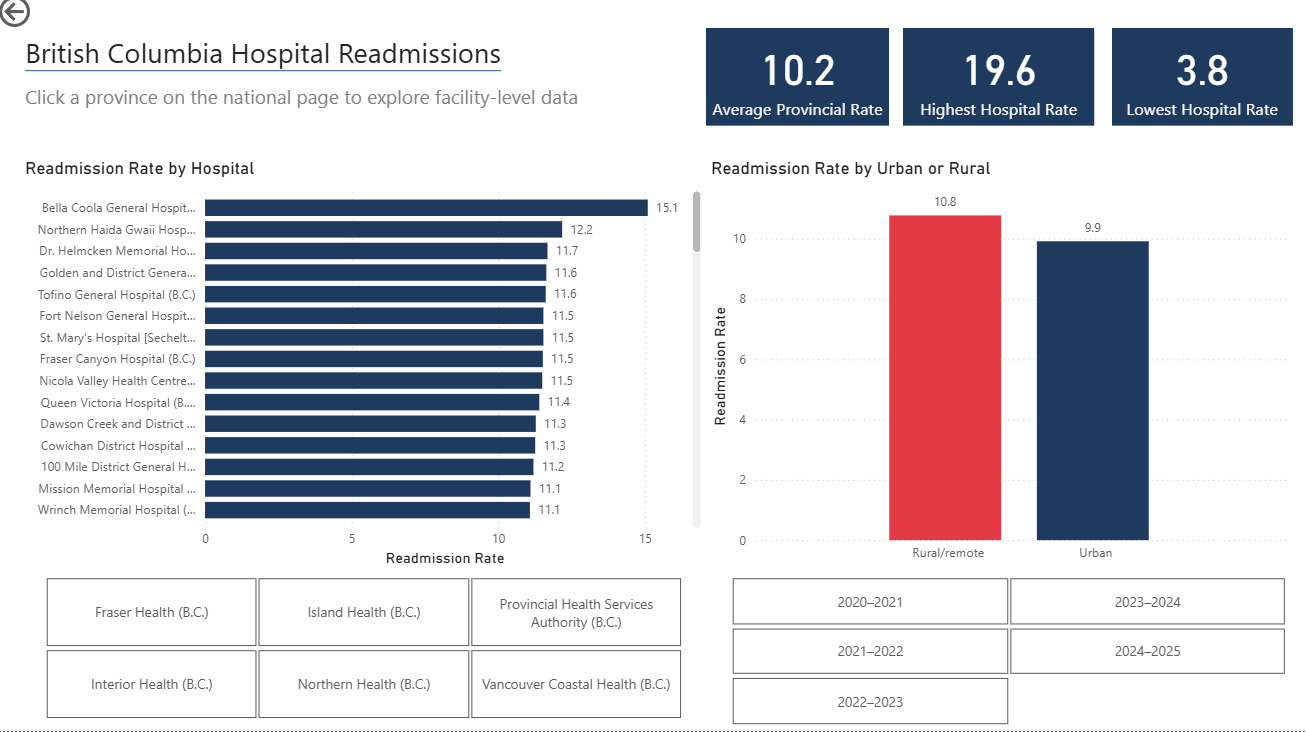

The dashboard page shown, as its layout file describes it:
{"tool":"powerbi","page":{"name":"Provincial Overview","canvas":[1280,720],"ordinal":1},"visuals":[{"type":"card","fields":{"Values":["Avg(All Patients Readmitted to Hospital Data.Risk-adjusted rate)"]},"box":[692.5,36.4,178.2,94.9],"z":0},{"type":"card","fields":{"Values":["Max(All Patients Readmitted to Hospital Data.Risk-adjusted rate)"]},"box":[884,36.4,186.2,94.9],"z":1000},{"type":"card","fields":{"Values":["Min(All Patients Readmitted to Hospital Data.Risk-adjusted rate)"]},"box":[1087.1,36.4,175.6,94.9],"z":2000},{"type":"textbox","box":[24.8,84.2,653.5,67.4],"z":4000},{"type":"clusteredBarChart","fields":{"Category":["All Patients Readmitted to Hospital Data.Place or organization"],"Y":["Avg(All Patients Readmitted to Hospital Data.Risk-adjusted rate)"]},"box":[25.3,162.4,667.2,401.7],"z":5000},{"type":"slicer","fields":{"Values":["All Patients Readmitted to Hospital Data.Region"]},"box":[25.3,564.1,667.2,149.8],"z":6000},{"type":"clusteredColumnChart","fields":{"Category":["All Patients Readmitted to Hospital Data.Urban or rural/remote"],"Y":["Avg(All Patients Readmitted to Hospital Data.Risk-adjusted rate)"]},"box":[692.5,162.4,570.9,401.7],"z":7000},{"type":"slicer","fields":{"Values":["All Patients Readmitted to Hospital Data.Time frame"]},"box":[692.5,564.1,587.5,155.6],"z":8000},{"type":"actionButton","box":[0,0,100,40],"z":9000},{"type":"textbox","box":[25.3,36,614.7,48.6],"z":9001}]}

Visuals, with their boxes in screenshot pixels (x1, y1, x2, y2), scaled from the page's 1280x720 canvas onto the 1306x732 screenshot:
card - Avg(All Patients Readmitted to Hospital Data.Risk-adjusted rate): (left=707, top=37, right=888, bottom=133)
card - Max(All Patients Readmitted to Hospital Data.Risk-adjusted rate): (left=902, top=37, right=1092, bottom=133)
card - Min(All Patients Readmitted to Hospital Data.Risk-adjusted rate): (left=1109, top=37, right=1288, bottom=133)
textbox: (left=25, top=86, right=692, bottom=154)
clusteredBarChart - All Patients Readmitted to Hospital Data.Place or organization x Avg(All Patients Readmitted to Hospital Data.Risk-adjusted rate): (left=26, top=165, right=707, bottom=574)
slicer - All Patients Readmitted to Hospital Data.Region: (left=26, top=574, right=707, bottom=726)
clusteredColumnChart - All Patients Readmitted to Hospital Data.Urban or rural/remote x Avg(All Patients Readmitted to Hospital Data.Risk-adjusted rate): (left=707, top=165, right=1289, bottom=574)
slicer - All Patients Readmitted to Hospital Data.Time frame: (left=707, top=574, right=1305, bottom=731)
actionButton: (left=0, top=0, right=102, bottom=41)
textbox: (left=26, top=37, right=653, bottom=86)
